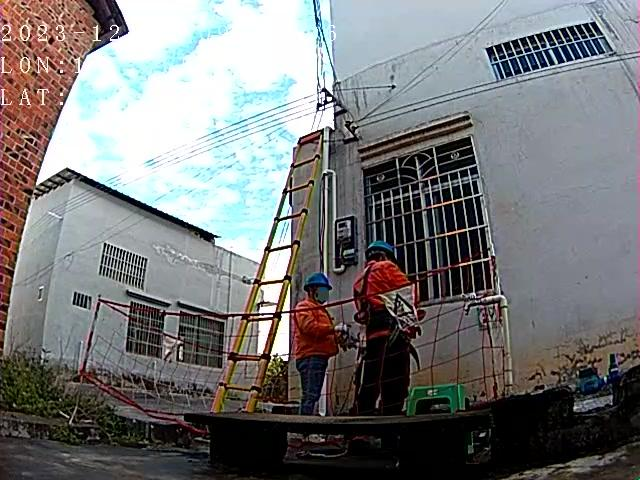halt: (307, 274, 335, 303), (368, 243, 399, 265)
